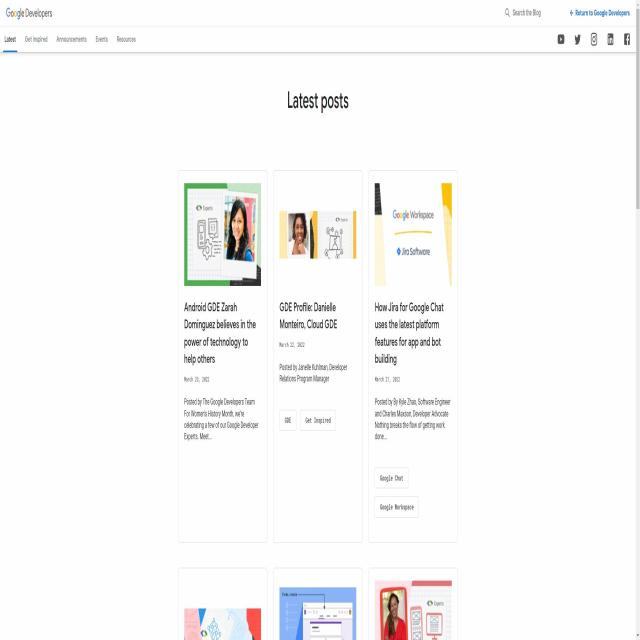button: (374, 497, 420, 519), (300, 409, 336, 431), (374, 467, 409, 489), (279, 409, 297, 429), (588, 28, 600, 49), (605, 28, 616, 49), (622, 28, 632, 50), (555, 29, 567, 47), (572, 29, 583, 48)
input: (502, 2, 552, 24)
